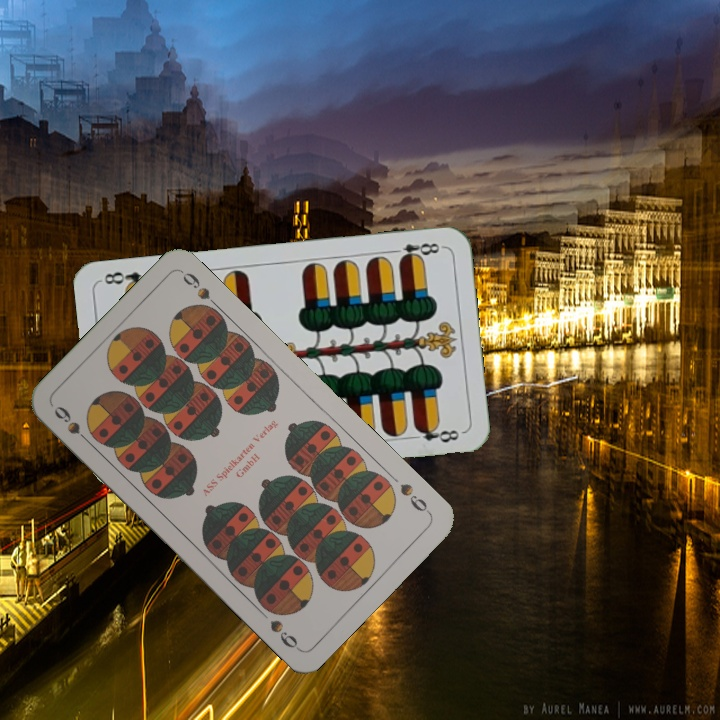E8: (386, 238, 442, 264)
S9: (49, 401, 99, 449), (396, 479, 433, 517)
